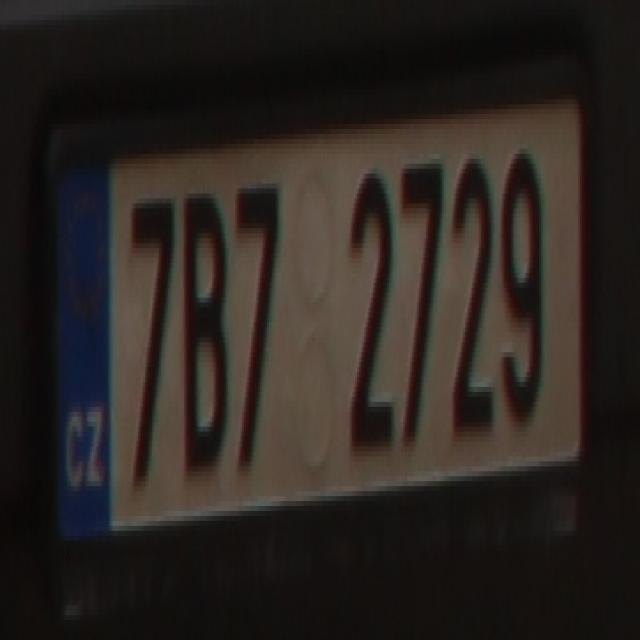2: (347, 154, 392, 442), (449, 148, 493, 436)
7: (233, 178, 283, 472), (128, 194, 174, 492), (399, 154, 444, 432)
9: (502, 149, 546, 412)
B: (180, 178, 228, 466)
